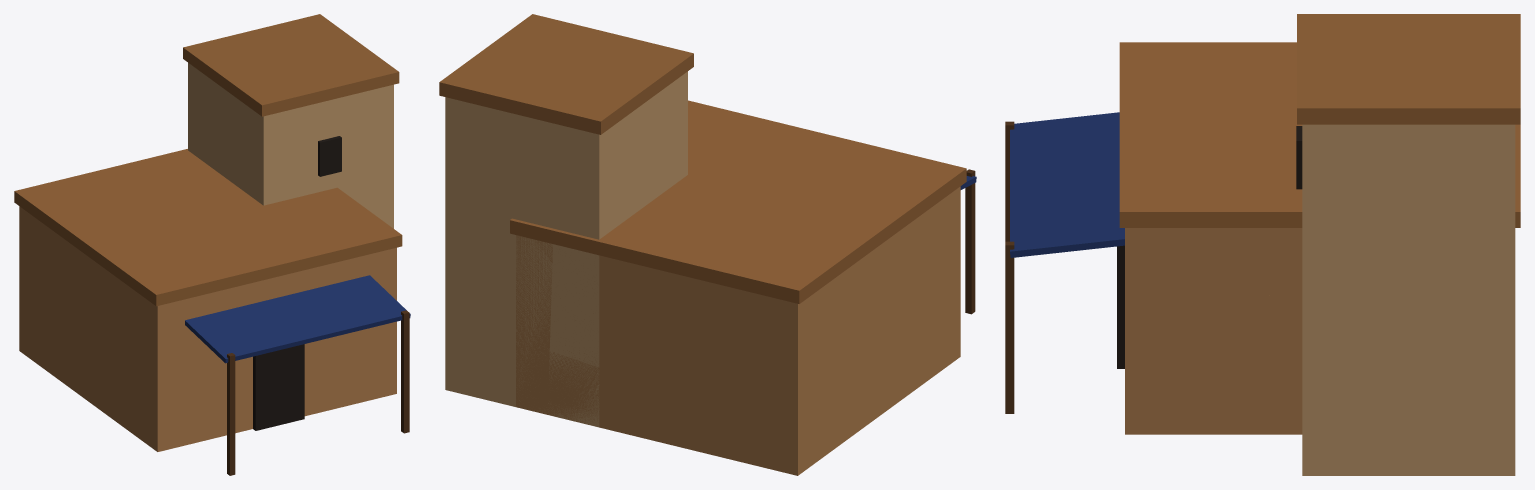
Rendered from fennec_house_c_broken.glb.
3 views of the same model, side by side, from view 1: azimuth 30°, elevation 25°; view 2: azimuth 150°, elevation 25°; view 3: azimuth 270°, elevation 25° (orthographic). The views are drawn at different scales.
Visible parts, largest first — view 1: fennec_house_c_piece4, fennec_house_c_piece3, fennec_house_c_piece2, fennec_house_c_piece1, fennec_house_c_piece9, fennec_house_c_piece8, fennec_house_c_piece13, fennec_house_c_piece11, fennec_house_c_piece7, fennec_house_c_piece10, fennec_house_c_piece6; view 2: fennec_house_c_piece4, fennec_house_c_piece5, fennec_house_c_piece13, fennec_house_c_piece2, fennec_house_c_piece3, fennec_house_c_piece8, fennec_house_c_piece0, fennec_house_c_piece11, fennec_house_c_piece1; view 3: fennec_house_c_piece6, fennec_house_c_piece8, fennec_house_c_piece1, fennec_house_c_piece2, fennec_house_c_piece7, fennec_house_c_piece3, fennec_house_c_piece5, fennec_house_c_piece9, fennec_house_c_piece10, fennec_house_c_piece4, fennec_house_c_piece11, fennec_house_c_piece13.
Part boxes in pixels (left/top/right/bottom): fennec_house_c_piece4: left=14, top=160, right=215, bottom=429; fennec_house_c_piece3: left=127, top=244, right=319, bottom=475; fennec_house_c_piece2: left=167, top=68, right=366, bottom=312; fennec_house_c_piece1: left=224, top=47, right=384, bottom=395; fennec_house_c_piece9: left=271, top=232, right=410, bottom=412; fennec_house_c_piece8: left=236, top=14, right=399, bottom=210; fennec_house_c_piece13: left=142, top=38, right=237, bottom=188; fennec_house_c_piece11: left=141, top=46, right=252, bottom=201; fennec_house_c_piece7: left=310, top=329, right=409, bottom=433; fennec_house_c_piece10: left=337, top=222, right=409, bottom=417; fennec_house_c_piece6: left=370, top=191, right=393, bottom=228; fennec_house_c_piece4: left=650, top=190, right=936, bottom=475; fennec_house_c_piece5: left=445, top=99, right=563, bottom=414; fennec_house_c_piece13: left=549, top=98, right=713, bottom=406; fennec_house_c_piece2: left=606, top=35, right=867, bottom=198; fennec_house_c_piece3: left=837, top=144, right=976, bottom=382; fennec_house_c_piece8: left=439, top=14, right=569, bottom=176; fennec_house_c_piece0: left=547, top=351, right=736, bottom=460; fennec_house_c_piece11: left=593, top=75, right=705, bottom=255; fennec_house_c_piece1: left=552, top=19, right=689, bottom=198; fennec_house_c_piece6: left=1259, top=204, right=1515, bottom=475; fennec_house_c_piece8: left=1297, top=41, right=1520, bottom=274; fennec_house_c_piece1: left=1149, top=28, right=1482, bottom=335; fennec_house_c_piece2: left=1094, top=14, right=1408, bottom=195; fennec_house_c_piece7: left=1005, top=299, right=1261, bottom=434; fennec_house_c_piece3: left=1005, top=42, right=1257, bottom=368; fennec_house_c_piece5: left=1413, top=40, right=1520, bottom=475; fennec_house_c_piece9: left=1005, top=167, right=1152, bottom=339; fennec_house_c_piece10: left=1005, top=194, right=1168, bottom=387; fennec_house_c_piece4: left=1192, top=42, right=1520, bottom=129; fennec_house_c_piece11: left=1369, top=14, right=1520, bottom=131; fennec_house_c_piece13: left=1465, top=18, right=1520, bottom=187.
Bounding box in the file's own units: 2.81 × 2.3 × 2.9.
